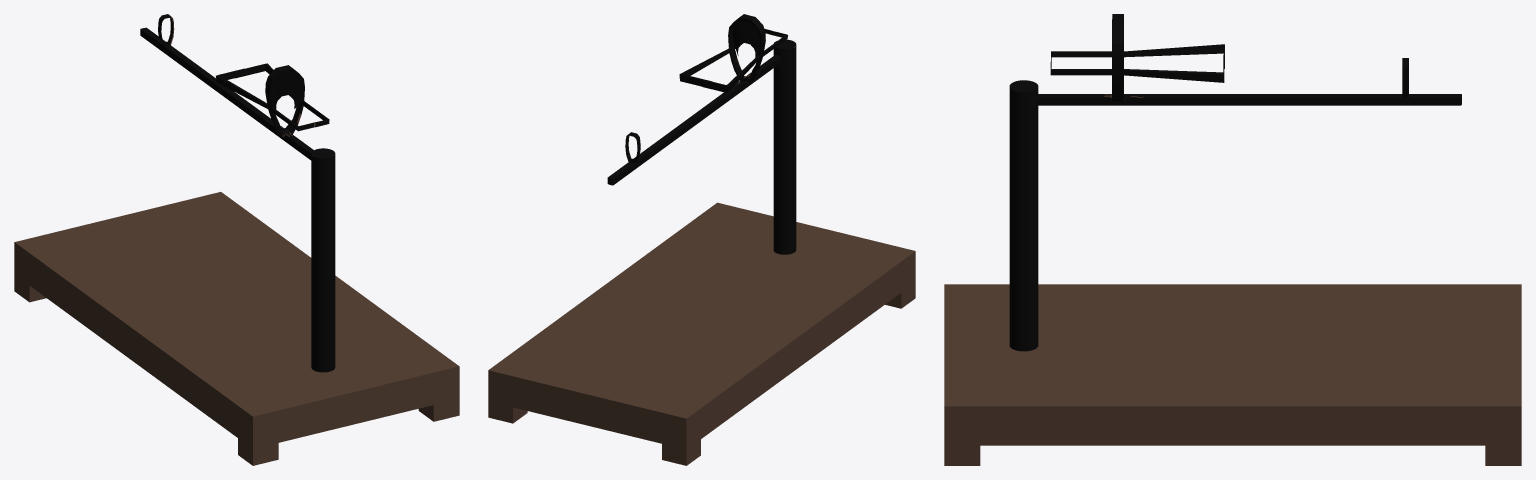
Rendered from schwebeillusion.glb.
3 renders of one model, left to right at view 1: azimuth 30°, elevation 25°; view 2: azimuth 150°, elevation 25°; view 3: azimuth 270°, elevation 25°, orthographic. The views are drawn at different scales.
Parts seen in each view (by area): view 1: Cube; view 2: Cube; view 3: Cube.
Boxes of the visible parts, x1,y1,x2,y2 form: Cube: [14, 14, 459, 465]; Cube: [488, 14, 915, 465]; Cube: [944, 14, 1521, 465].
Bounding box in the file's own units: 2 × 2.96 × 4.
